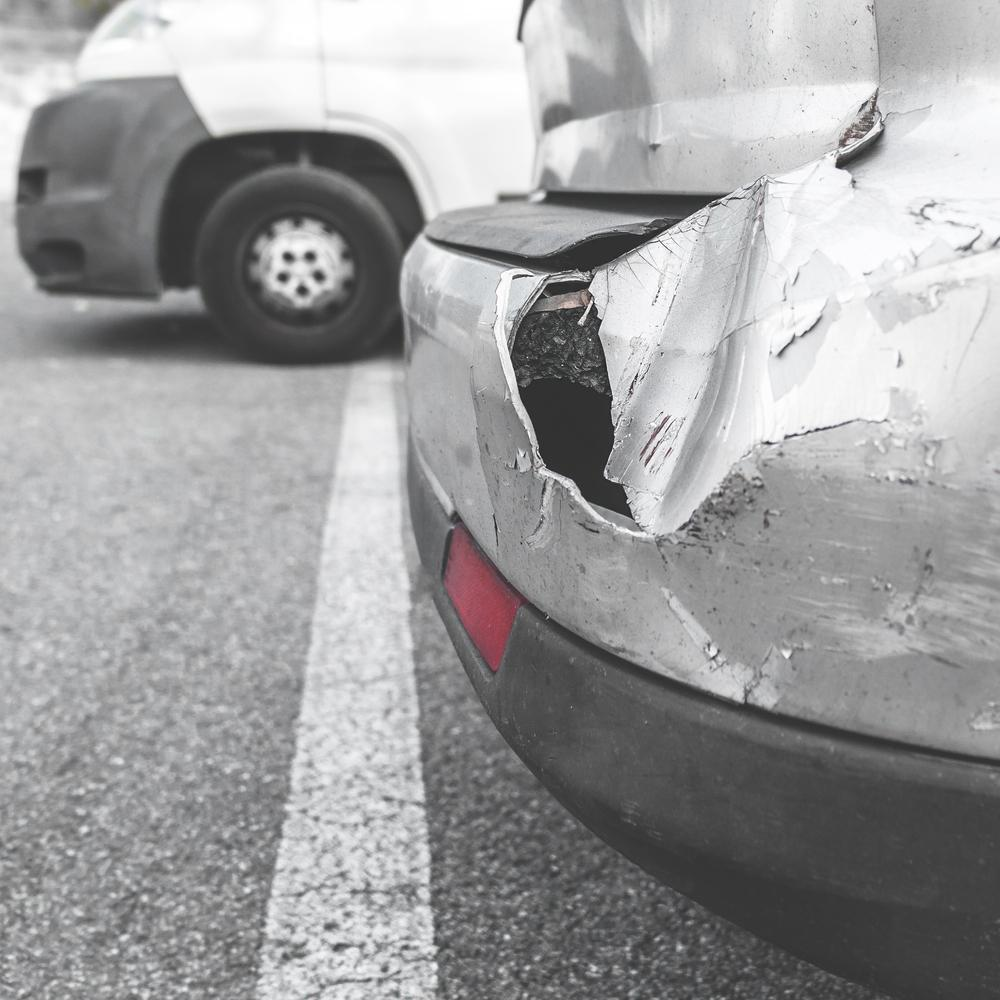crack: (509, 270, 646, 532)
dent: (620, 177, 766, 527)
scratch: (681, 181, 1000, 684)
